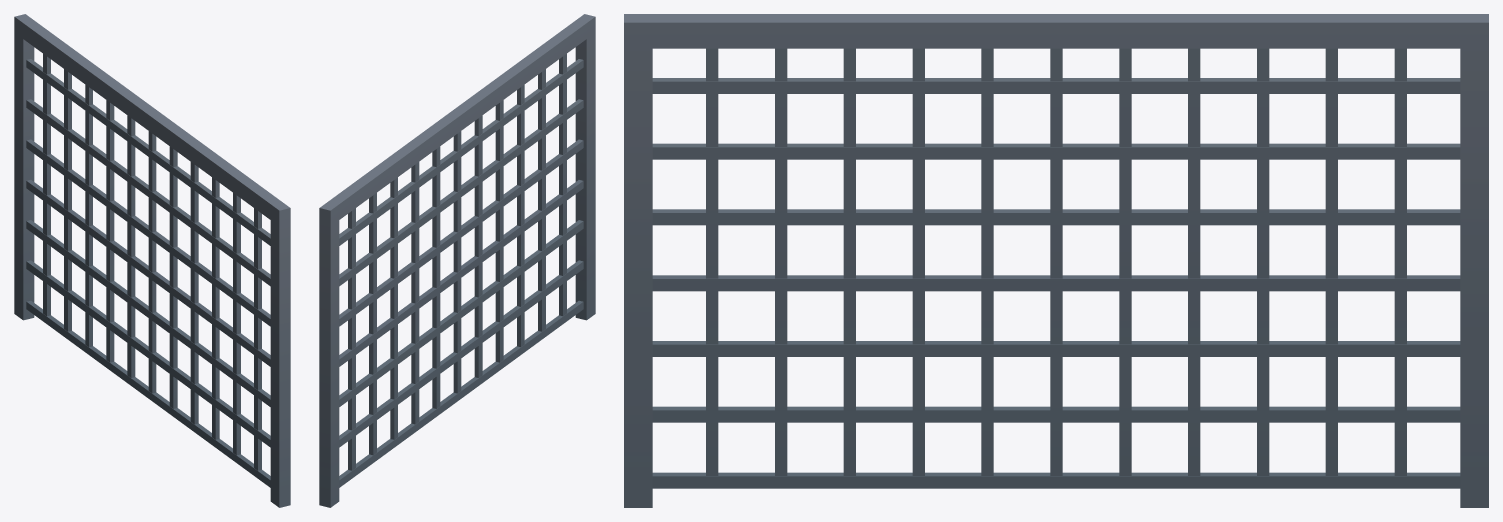
Rendered from Fence_1_A_3.glb.
The picture shows the model from 3 angles, left to right: view 1: azimuth 30°, elevation 25°; view 2: azimuth 150°, elevation 25°; view 3: azimuth 270°, elevation 25°; orthographic projection. The views are drawn at different scales.
Visible parts, largest first — view 1: Fence_1_A_3; view 2: Fence_1_A_3; view 3: Fence_1_A_3.
Part boxes in pixels (x1,y1,x2,y2): Fence_1_A_3: [14, 14, 290, 507]; Fence_1_A_3: [319, 14, 595, 507]; Fence_1_A_3: [624, 14, 1488, 507].
Bounding box in the file's own units: 0.096 × 2.48 × 4.
Materials: 1 (1 with a texture image).
